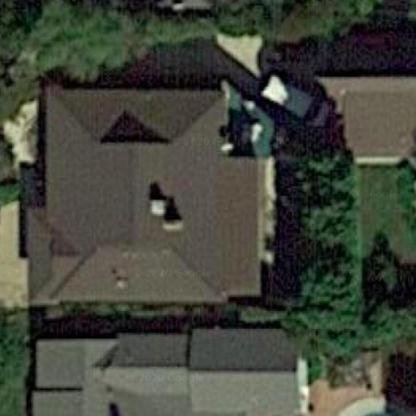car: (261, 68, 340, 141)
